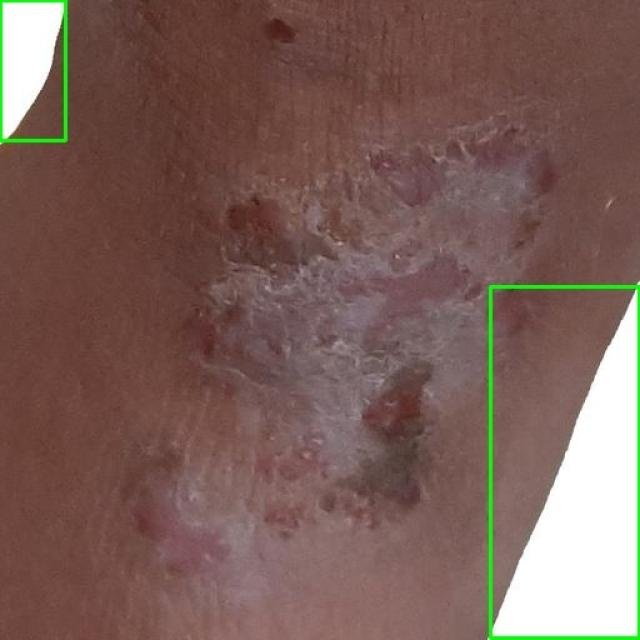Contact Dermatitis: (490, 286, 639, 639), (0, 0, 65, 140)
